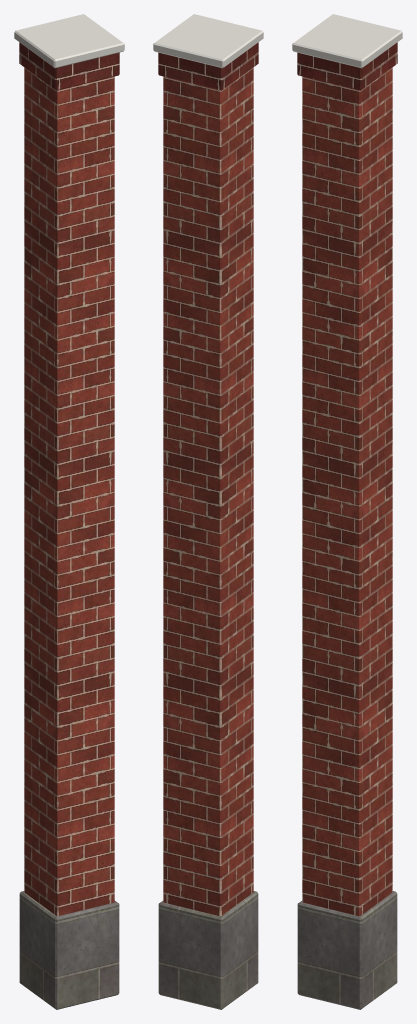
The model's file is h_pier_high.glb.
The picture shows the model from 3 angles, left to right: view 1: azimuth 30°, elevation 25°; view 2: azimuth 150°, elevation 25°; view 3: azimuth 330°, elevation 25°; orthographic projection.
Visible parts, largest first — view 1: h_pier_high_brick, h_pier_high_plinth, h_pier_high_coping, h_pier_high_brick2; view 2: h_pier_high_brick, h_pier_high_plinth, h_pier_high_coping, h_pier_high_brick2; view 3: h_pier_high_brick, h_pier_high_plinth, h_pier_high_coping, h_pier_high_brick2.
Boxes of the visible parts, bbox=[...] form: h_pier_high_brick: bbox=[24, 67, 114, 916]; h_pier_high_plinth: bbox=[19, 891, 119, 1009]; h_pier_high_coping: bbox=[14, 14, 124, 68]; h_pier_high_brick2: bbox=[19, 42, 119, 90]; h_pier_high_brick: bbox=[163, 67, 253, 916]; h_pier_high_plinth: bbox=[158, 891, 258, 1009]; h_pier_high_coping: bbox=[153, 14, 263, 68]; h_pier_high_brick2: bbox=[158, 42, 258, 90]; h_pier_high_brick: bbox=[302, 67, 392, 916]; h_pier_high_plinth: bbox=[297, 891, 397, 1009]; h_pier_high_coping: bbox=[292, 14, 402, 68]; h_pier_high_brick2: bbox=[297, 42, 397, 90].
Bounding box in the file's own units: 0.67 × 8.62 × 0.67.
Materials: 4 (3 with a texture image).
